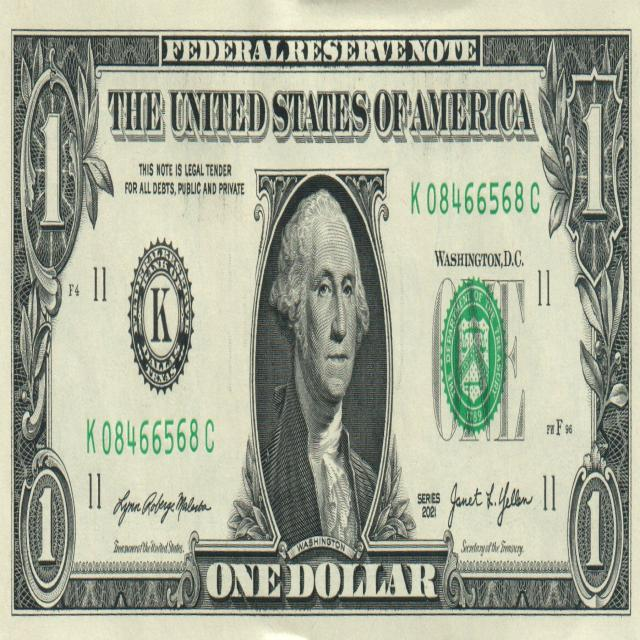SerialNumber: (87, 419, 214, 455), (412, 182, 539, 215)
